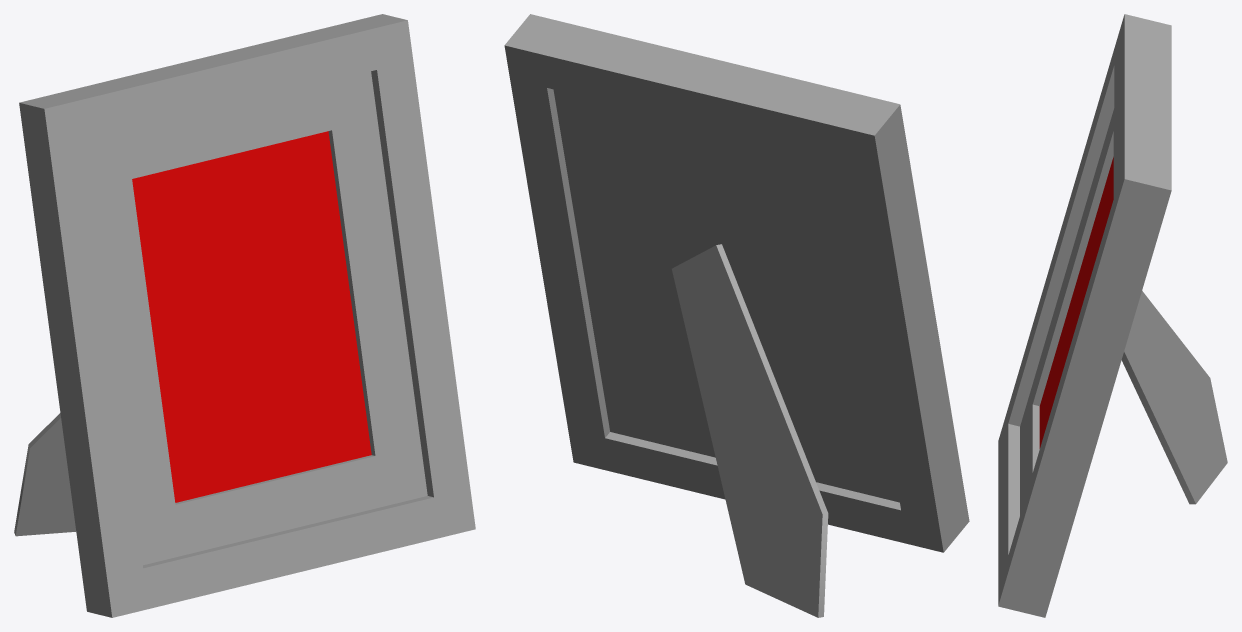
The model's file is Frame_001.fbx.
3 renders of one model, left to right at view 1: azimuth 30°, elevation 25°; view 2: azimuth 150°, elevation 25°; view 3: azimuth 270°, elevation 25°, orthographic. The views are drawn at different scales.
Visible parts, largest first — view 1: Frame_Frame; view 2: Frame_Frame; view 3: Frame_Frame.
Boxes of the visible parts, bbox=[...] form: Frame_Frame: bbox=[14, 14, 475, 617]; Frame_Frame: bbox=[504, 14, 969, 617]; Frame_Frame: bbox=[998, 14, 1227, 617].
Bounding box in the file's own units: 16 × 19.86 × 9.41.
